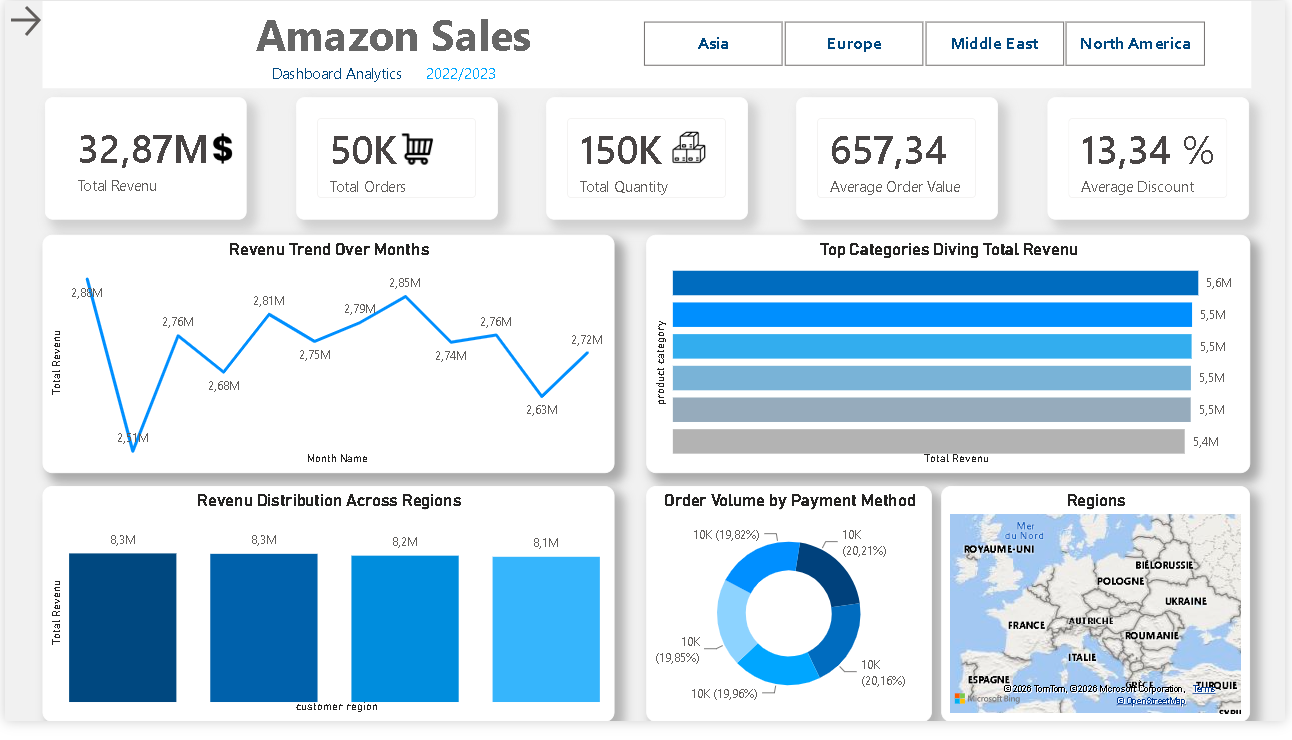

What the dashboard file says about the page in this screenshot:
{"tool":"powerbi","page":{"name":"Page 1","canvas":[1280,720],"ordinal":0},"visuals":[{"type":"textbox","box":[37.1,0,1208.6,87.1],"z":0},{"type":"slicer","fields":{"Values":["Data.customer region"]},"box":[606.5,6.9,624.4,72.7],"z":1000},{"type":"cardVisual","fields":{"Data":["_Measure.Total sales"]},"box":[39.8,96.1,201.7,122.1],"z":2000},{"type":"cardVisual","fields":{"Data":["_Measure.Total Orders"]},"box":[290.9,96.1,201.7,122.1],"z":3000},{"type":"cardVisual","fields":{"Data":["_Measure.Total Quantity"]},"box":[540.7,96.1,201.7,122.1],"z":4000},{"type":"cardVisual","fields":{"Data":["_Measure.Average Order Value"]},"box":[791.8,96.1,201.7,122.1],"z":5000},{"type":"cardVisual","fields":{"Data":["_Measure.Average Discount"]},"box":[1042.9,96.1,201.7,122.1],"z":6000},{"type":"lineChart","title":"Revenu Trend Over Months","fields":{"Category":["Calendar.Month Name"],"Y":["_Measure.Total sales"]},"box":[37,233.3,572.2,238.8],"z":7000},{"type":"clusteredBarChart","title":"Top Categories Diving Total Revenu","fields":{"Y":["_Measure.Total sales"],"Category":["Data.product category"]},"box":[640.8,233.3,603.8,238.8],"z":8000},{"type":"clusteredColumnChart","title":"Revenu Distribution Across Regions","fields":{"Y":["_Measure.Total sales"],"Category":["Data.customer region"]},"box":[37,484.4,572.2,236],"z":9000},{"type":"donutChart","title":"Order Volume by Payment Method","fields":{"Category":["Data.payment method"],"Y":["_Measure.Total Orders"]},"box":[640.8,484.4,285.4,236],"z":10000},{"type":"filledMap","title":"Regions","fields":{"Series":["Data.customer region"]},"box":[935.9,484.4,308.7,236],"z":11000},{"type":"actionButton","box":[0,0,50,40],"z":12000},{"type":"image","box":[391.7,132.5,42.5,30.8],"z":14000},{"type":"image","box":[667.5,127.1,32.5,37.5],"z":15000},{"type":"image","box":[174.3,127.1,88.6,40],"z":16000},{"type":"image","box":[141.2,5,103.8,68.8],"z":17000}]}

Visuals, with their boxes in screenshot pixels (x1, y1, x2, y2), scaled from the page's 1280x720 canvas onto the 1292x740 screenshot:
textbox: <bbox>37, 0, 1257, 90</bbox>
slicer - Data.customer region: <bbox>612, 7, 1242, 82</bbox>
cardVisual - _Measure.Total sales: <bbox>40, 99, 244, 224</bbox>
cardVisual - _Measure.Total Orders: <bbox>294, 99, 497, 224</bbox>
cardVisual - _Measure.Total Quantity: <bbox>546, 99, 749, 224</bbox>
cardVisual - _Measure.Average Order Value: <bbox>799, 99, 1003, 224</bbox>
cardVisual - _Measure.Average Discount: <bbox>1053, 99, 1256, 224</bbox>
"Revenu Trend Over Months" lineChart: <bbox>37, 240, 615, 485</bbox>
"Top Categories Diving Total Revenu" clusteredBarChart: <bbox>647, 240, 1256, 485</bbox>
"Revenu Distribution Across Regions" clusteredColumnChart: <bbox>37, 498, 615, 739</bbox>
"Order Volume by Payment Method" donutChart: <bbox>647, 498, 935, 739</bbox>
"Regions" filledMap: <bbox>945, 498, 1256, 739</bbox>
actionButton: <bbox>0, 0, 50, 41</bbox>
image: <bbox>395, 136, 438, 168</bbox>
image: <bbox>674, 131, 707, 169</bbox>
image: <bbox>176, 131, 265, 172</bbox>
image: <bbox>143, 5, 247, 76</bbox>
